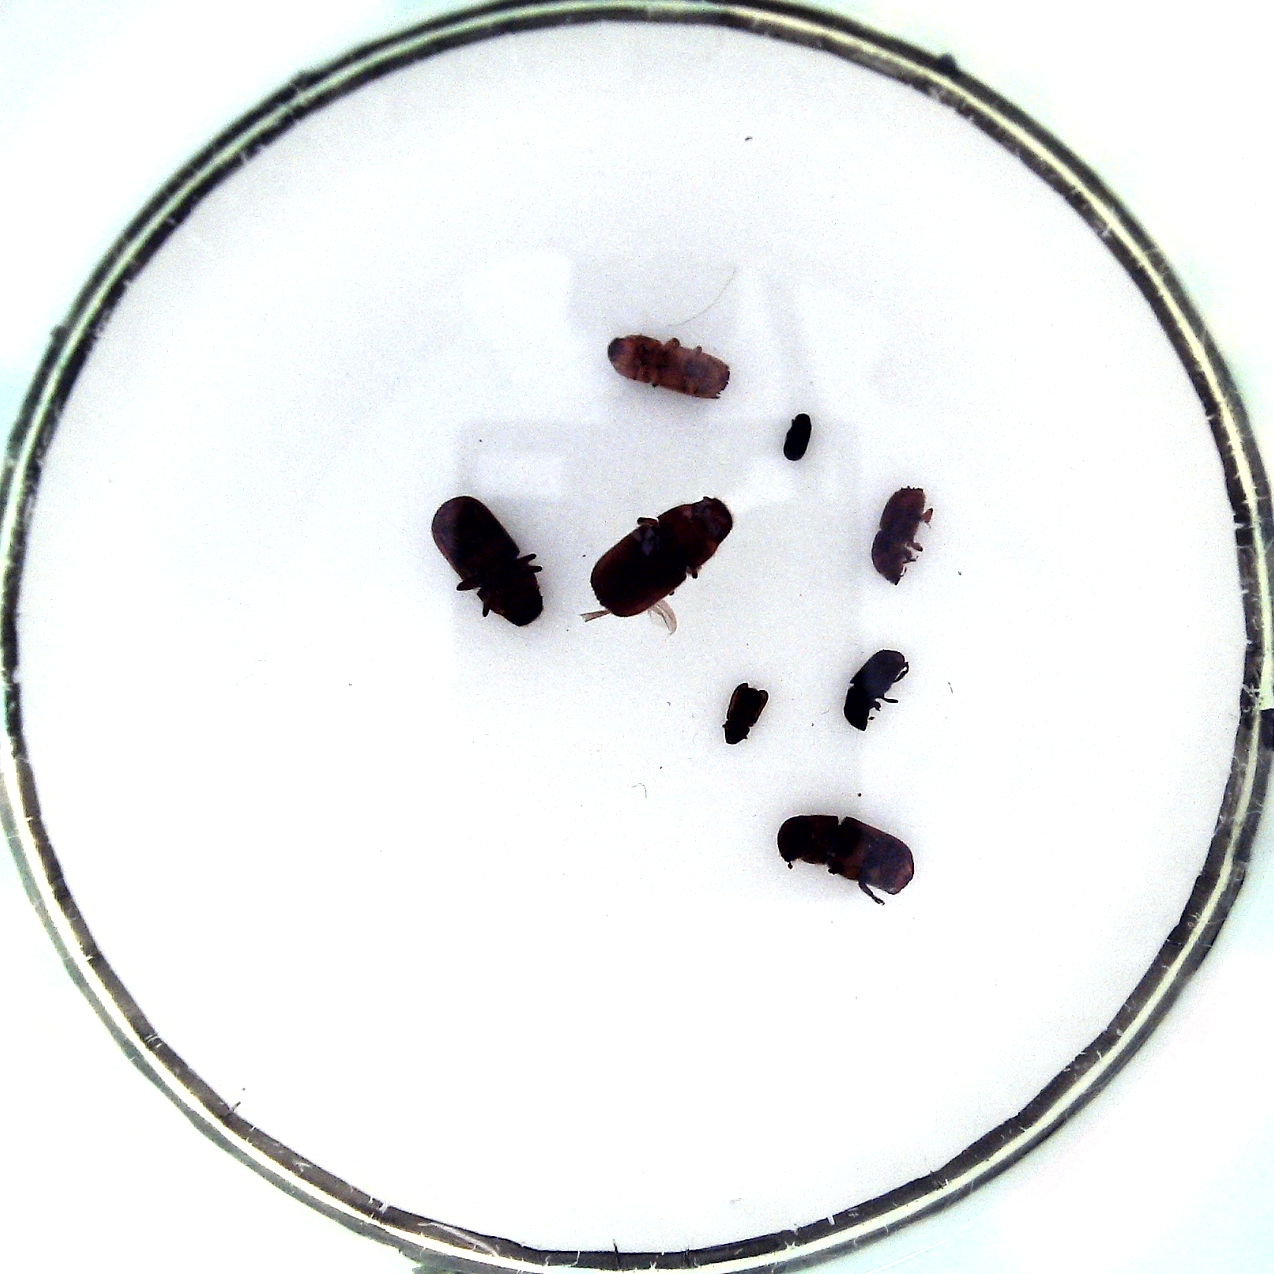Boerner: (608, 334, 730, 400)
Leconte: (588, 498, 733, 618), (430, 494, 544, 626), (777, 814, 914, 896)
acuminatus: (783, 413, 812, 461)
armandi: (843, 649, 907, 731)
coleoptera: (724, 681, 768, 744)
linnaeus: (871, 487, 926, 584)
